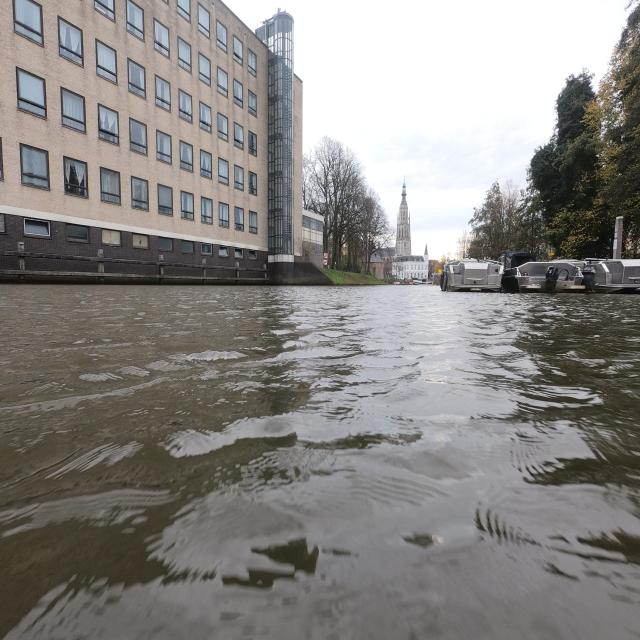boat: (439, 257, 640, 294), (436, 257, 536, 292), (593, 260, 640, 292)
grass: (325, 264, 391, 289)
sky: (223, 0, 640, 260)
wall: (0, 0, 324, 288)
water: (0, 283, 640, 640)
